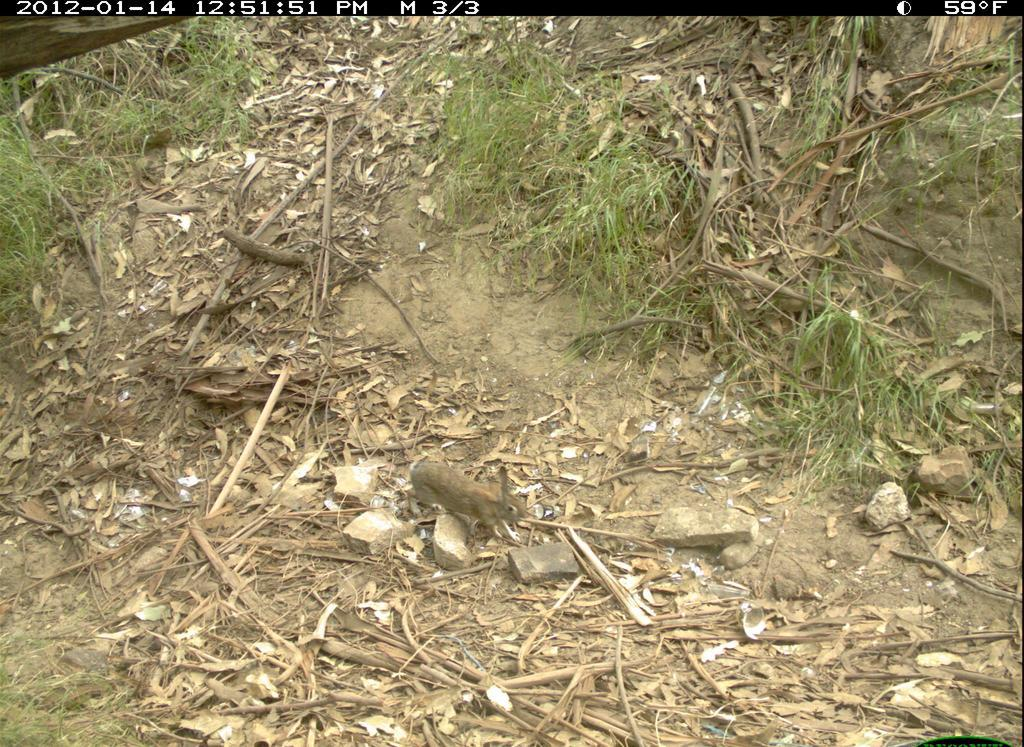rabbit: (402, 443, 529, 550)
